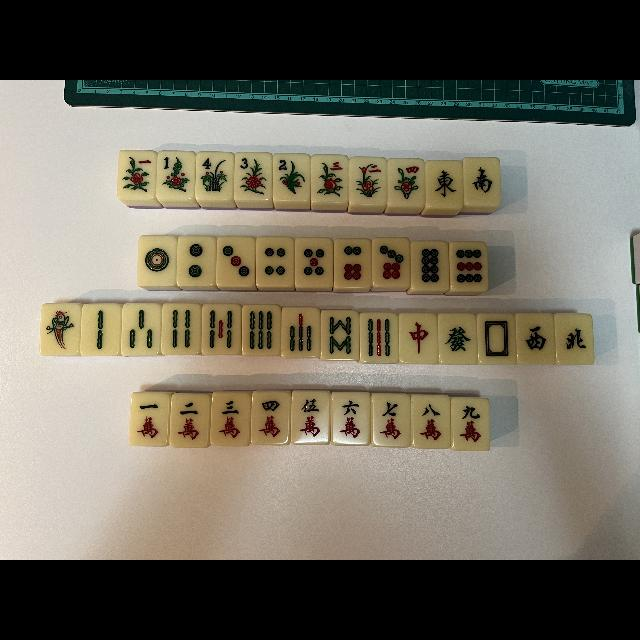b1: (40, 304, 80, 354)
b2: (81, 304, 119, 356)
b3: (122, 304, 160, 354)
b4: (162, 304, 200, 354)
b5: (202, 304, 242, 354)
b6: (242, 306, 280, 356)
b7: (281, 307, 319, 357)
b8: (320, 310, 360, 360)
b9: (360, 313, 398, 361)
c1: (128, 392, 168, 446)
c2: (170, 393, 208, 447)
c3: (211, 392, 249, 446)
c4: (251, 392, 289, 444)
c5: (292, 392, 330, 444)
c6: (332, 393, 371, 445)
c7: (372, 394, 410, 446)
c8: (412, 396, 450, 448)
c9: (452, 398, 488, 450)
d1: (138, 235, 176, 285)
d2: (178, 237, 214, 285)
d3: (217, 238, 253, 286)
d4: (256, 237, 294, 286)
d5: (295, 238, 331, 286)
d6: (332, 240, 372, 288)
d7: (372, 238, 410, 286)
d8: (410, 241, 450, 289)
d9: (450, 242, 488, 290)
dg: (439, 314, 476, 364)
dr: (399, 314, 439, 364)
dw: (478, 314, 516, 364)
f1-s: (156, 152, 194, 198)
f2-s: (273, 153, 311, 201)
f3-s: (235, 153, 272, 200)
f4-s: (196, 152, 234, 198)
s1-s: (118, 150, 156, 198)
s2-s: (349, 156, 386, 204)
s3-s: (312, 155, 348, 201)
s4-s: (388, 158, 424, 206)
we: (426, 161, 462, 207)
wn: (556, 314, 594, 366)
ws: (462, 158, 500, 205)
ww: (516, 314, 556, 364)
